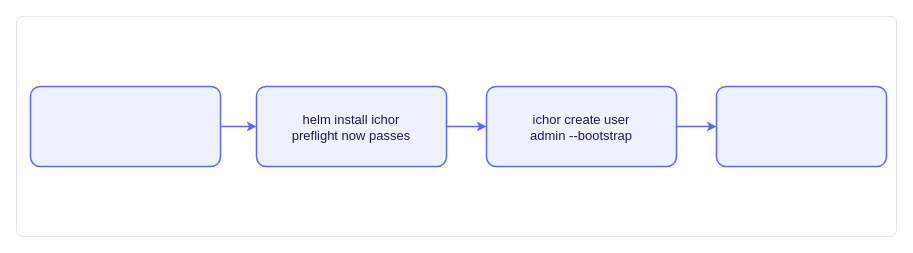
The diagram is 913 pixels wide and 253 high, and some of its shapes have lost their labels. The centre of each missing label's shape, as x and y in pixels:
ichor adopt --recover-secrets: (801,126)
ichor bootstrap cni Cilium release, nodes Ready: (125,126)
